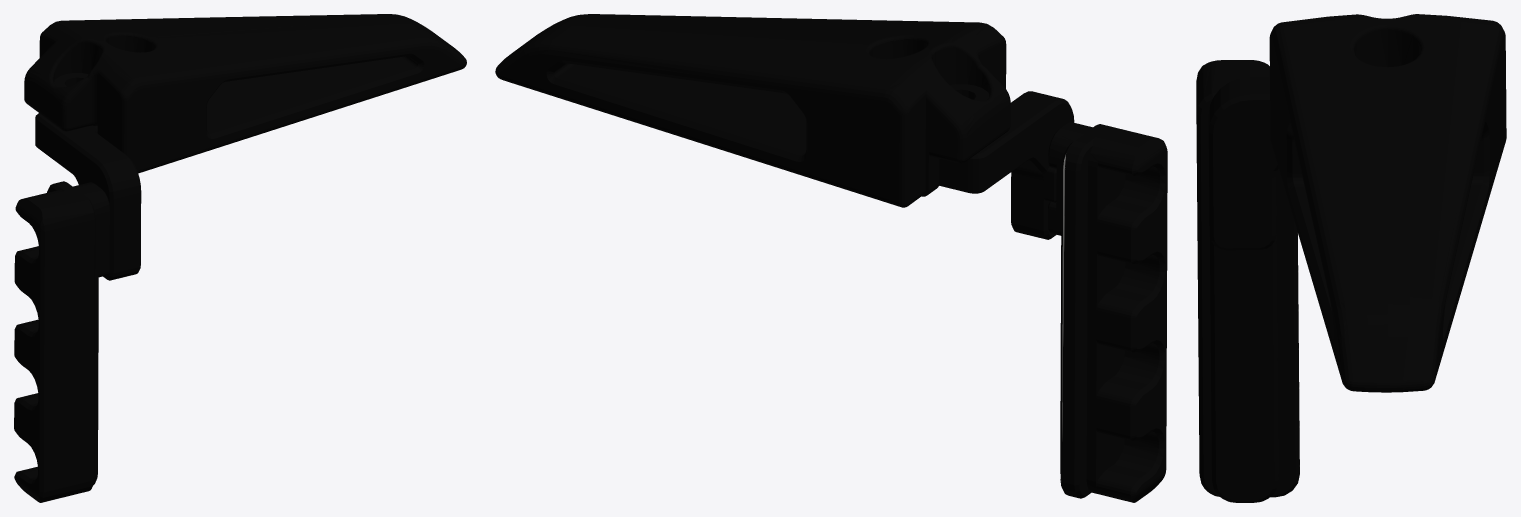
File: left_gripper_finger_link1.usd.sapien.glb
3 renders of one model, left to right at view 1: azimuth 30°, elevation 25°; view 2: azimuth 150°, elevation 25°; view 3: azimuth 270°, elevation 25°, orthographic. The views are drawn at different scales.
Parts seen in each view (by area): view 1: left_gripper_finger_link1; view 2: left_gripper_finger_link1; view 3: left_gripper_finger_link1.
Boxes of the visible parts, <box> form: left_gripper_finger_link1: <box>14,14,466,502</box>; left_gripper_finger_link1: <box>495,14,1167,502</box>; left_gripper_finger_link1: <box>1196,14,1506,502</box>.
Bounding box in the file's own units: 0.092 × 0.07 × 0.0371.
Materials: 1 (1 with a texture image).
